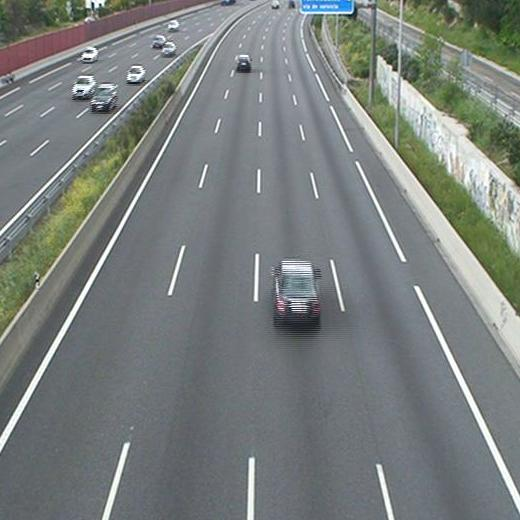car: (272, 260, 321, 329), (237, 55, 251, 71)
